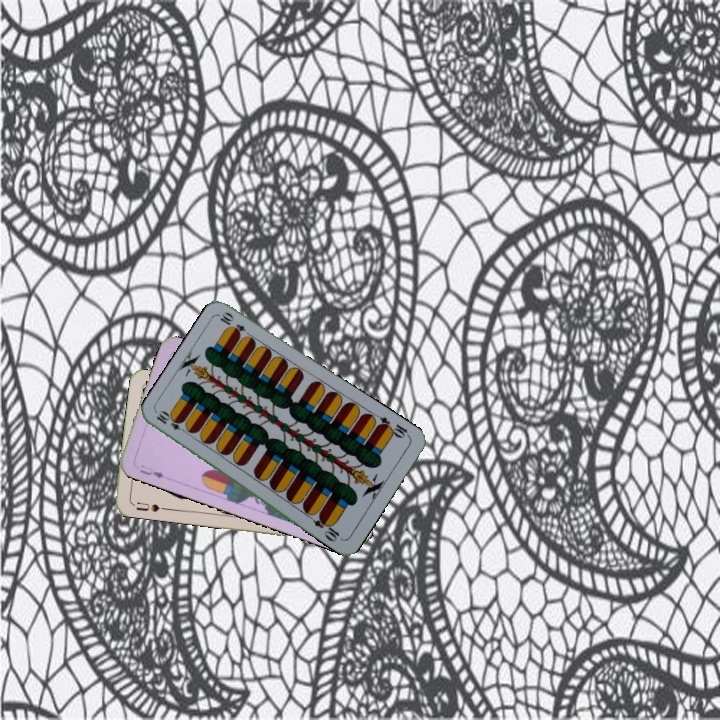E10: (373, 413, 412, 441), (152, 408, 190, 436)
EU: (136, 460, 167, 481)
SU: (132, 498, 169, 514)
